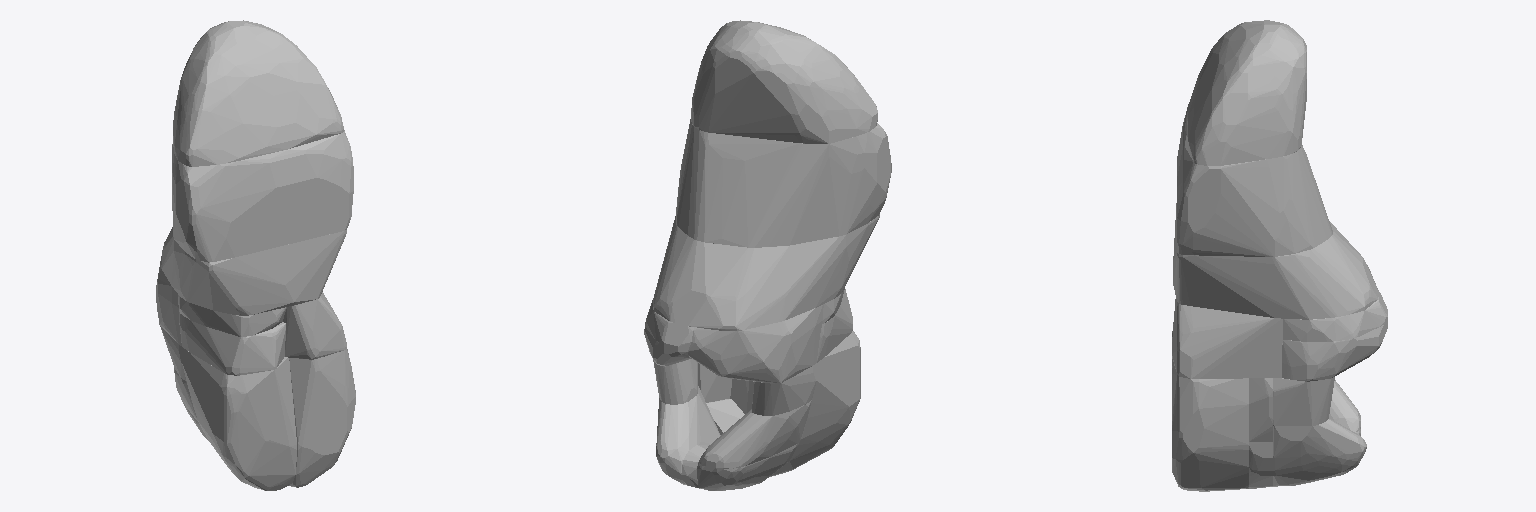
The robot description file, URDF, robot "root":
<robot name="root">
  <link name="link_coacd_convex_piece_0">
    <inertial>
      <origin xyz="0 0 0" rpy="0 0 0"/>
      <inertia ixx="1.07E-02" ixy="6.03E-04" ixz="-3.30E-04" iyy="4.68E-03" iyz="-3.82E-03" izz="1.11E-02"/>
    </inertial>
    <visual>
      <origin xyz="0 0 0" rpy="0 0 0"/>
      <geometry>
        <mesh filename="coacd_convex_piece_0.obj" scale="1.0000E+00 1.0000E+00 1.0000E+00"/>
      </geometry>
      <material name="">
        <color rgba="7.50E-01 7.50E-01 7.50E-01 1"/>
      </material>
    </visual>
    <collision>
      <origin xyz="0 0 0" rpy="0 0 0"/>
      <geometry>
        <mesh filename="coacd_convex_piece_0.obj" scale="1.0000E+00 1.0000E+00 1.0000E+00"/>
      </geometry>
    </collision>
  </link>
  <link name="link_coacd_convex_piece_1">
    <inertial>
      <origin xyz="0 0 0" rpy="0 0 0"/>
      <inertia ixx="2.05E-02" ixy="5.72E-04" ixz="-1.68E-04" iyy="1.41E-03" iyz="-3.26E-03" izz="2.10E-02"/>
    </inertial>
    <visual>
      <origin xyz="0 0 0" rpy="0 0 0"/>
      <geometry>
        <mesh filename="coacd_convex_piece_1.obj" scale="1.0000E+00 1.0000E+00 1.0000E+00"/>
      </geometry>
      <material name="">
        <color rgba="7.50E-01 7.50E-01 7.50E-01 1"/>
      </material>
    </visual>
    <collision>
      <origin xyz="0 0 0" rpy="0 0 0"/>
      <geometry>
        <mesh filename="coacd_convex_piece_1.obj" scale="1.0000E+00 1.0000E+00 1.0000E+00"/>
      </geometry>
    </collision>
  </link>
  <joint name="link_coacd_convex_piece_1_joint" type="fixed">
    <origin xyz="0 0 0" rpy="0 0 0"/>
    <parent link="link_coacd_convex_piece_0"/>
    <child link="link_coacd_convex_piece_1"/>
  </joint>
  <link name="link_coacd_convex_piece_2">
    <inertial>
      <origin xyz="0 0 0" rpy="0 0 0"/>
      <inertia ixx="1.47E-02" ixy="9.64E-04" ixz="-5.59E-04" iyy="1.77E-03" iyz="4.55E-03" izz="1.35E-02"/>
    </inertial>
    <visual>
      <origin xyz="0 0 0" rpy="0 0 0"/>
      <geometry>
        <mesh filename="coacd_convex_piece_2.obj" scale="1.0000E+00 1.0000E+00 1.0000E+00"/>
      </geometry>
      <material name="">
        <color rgba="7.50E-01 7.50E-01 7.50E-01 1"/>
      </material>
    </visual>
    <collision>
      <origin xyz="0 0 0" rpy="0 0 0"/>
      <geometry>
        <mesh filename="coacd_convex_piece_2.obj" scale="1.0000E+00 1.0000E+00 1.0000E+00"/>
      </geometry>
    </collision>
  </link>
  <joint name="link_coacd_convex_piece_2_joint" type="fixed">
    <origin xyz="0 0 0" rpy="0 0 0"/>
    <parent link="link_coacd_convex_piece_1"/>
    <child link="link_coacd_convex_piece_2"/>
  </joint>
  <link name="link_coacd_convex_piece_3">
    <inertial>
      <origin xyz="0 0 0" rpy="0 0 0"/>
      <inertia ixx="1.90E-03" ixy="-7.52E-06" ixz="-4.38E-04" iyy="3.18E-03" iyz="-1.79E-04" izz="1.97E-03"/>
    </inertial>
    <visual>
      <origin xyz="0 0 0" rpy="0 0 0"/>
      <geometry>
        <mesh filename="coacd_convex_piece_3.obj" scale="1.0000E+00 1.0000E+00 1.0000E+00"/>
      </geometry>
      <material name="">
        <color rgba="7.50E-01 7.50E-01 7.50E-01 1"/>
      </material>
    </visual>
    <collision>
      <origin xyz="0 0 0" rpy="0 0 0"/>
      <geometry>
        <mesh filename="coacd_convex_piece_3.obj" scale="1.0000E+00 1.0000E+00 1.0000E+00"/>
      </geometry>
    </collision>
  </link>
  <joint name="link_coacd_convex_piece_3_joint" type="fixed">
    <origin xyz="0 0 0" rpy="0 0 0"/>
    <parent link="link_coacd_convex_piece_2"/>
    <child link="link_coacd_convex_piece_3"/>
  </joint>
  <link name="link_coacd_convex_piece_4">
    <inertial>
      <origin xyz="0 0 0" rpy="0 0 0"/>
      <inertia ixx="6.27E-04" ixy="-3.93E-04" ixz="-8.22E-05" iyy="2.31E-04" iyz="-1.11E-04" izz="8.83E-04"/>
    </inertial>
    <visual>
      <origin xyz="0 0 0" rpy="0 0 0"/>
      <geometry>
        <mesh filename="coacd_convex_piece_4.obj" scale="1.0000E+00 1.0000E+00 1.0000E+00"/>
      </geometry>
      <material name="">
        <color rgba="7.50E-01 7.50E-01 7.50E-01 1"/>
      </material>
    </visual>
    <collision>
      <origin xyz="0 0 0" rpy="0 0 0"/>
      <geometry>
        <mesh filename="coacd_convex_piece_4.obj" scale="1.0000E+00 1.0000E+00 1.0000E+00"/>
      </geometry>
    </collision>
  </link>
  <joint name="link_coacd_convex_piece_4_joint" type="fixed">
    <origin xyz="0 0 0" rpy="0 0 0"/>
    <parent link="link_coacd_convex_piece_3"/>
    <child link="link_coacd_convex_piece_4"/>
  </joint>
  <link name="link_coacd_convex_piece_5">
    <inertial>
      <origin xyz="0 0 0" rpy="0 0 0"/>
      <inertia ixx="1.09E-02" ixy="-2.97E-03" ixz="1.14E-03" iyy="2.45E-03" iyz="3.74E-03" izz="1.06E-02"/>
    </inertial>
    <visual>
      <origin xyz="0 0 0" rpy="0 0 0"/>
      <geometry>
        <mesh filename="coacd_convex_piece_5.obj" scale="1.0000E+00 1.0000E+00 1.0000E+00"/>
      </geometry>
      <material name="">
        <color rgba="7.50E-01 7.50E-01 7.50E-01 1"/>
      </material>
    </visual>
    <collision>
      <origin xyz="0 0 0" rpy="0 0 0"/>
      <geometry>
        <mesh filename="coacd_convex_piece_5.obj" scale="1.0000E+00 1.0000E+00 1.0000E+00"/>
      </geometry>
    </collision>
  </link>
  <joint name="link_coacd_convex_piece_5_joint" type="fixed">
    <origin xyz="0 0 0" rpy="0 0 0"/>
    <parent link="link_coacd_convex_piece_4"/>
    <child link="link_coacd_convex_piece_5"/>
  </joint>
  <link name="link_coacd_convex_piece_6">
    <inertial>
      <origin xyz="0 0 0" rpy="0 0 0"/>
      <inertia ixx="4.94E-04" ixy="1.60E-04" ixz="1.00E-05" iyy="3.56E-05" iyz="-7.98E-05" izz="5.58E-04"/>
    </inertial>
    <visual>
      <origin xyz="0 0 0" rpy="0 0 0"/>
      <geometry>
        <mesh filename="coacd_convex_piece_6.obj" scale="1.0000E+00 1.0000E+00 1.0000E+00"/>
      </geometry>
      <material name="">
        <color rgba="7.50E-01 7.50E-01 7.50E-01 1"/>
      </material>
    </visual>
    <collision>
      <origin xyz="0 0 0" rpy="0 0 0"/>
      <geometry>
        <mesh filename="coacd_convex_piece_6.obj" scale="1.0000E+00 1.0000E+00 1.0000E+00"/>
      </geometry>
    </collision>
  </link>
  <joint name="link_coacd_convex_piece_6_joint" type="fixed">
    <origin xyz="0 0 0" rpy="0 0 0"/>
    <parent link="link_coacd_convex_piece_5"/>
    <child link="link_coacd_convex_piece_6"/>
  </joint>
  <link name="link_coacd_convex_piece_7">
    <inertial>
      <origin xyz="0 0 0" rpy="0 0 0"/>
      <inertia ixx="6.55E-04" ixy="-3.89E-04" ixz="-2.75E-04" iyy="5.30E-04" iyz="-3.15E-04" izz="8.05E-04"/>
    </inertial>
    <visual>
      <origin xyz="0 0 0" rpy="0 0 0"/>
      <geometry>
        <mesh filename="coacd_convex_piece_7.obj" scale="1.0000E+00 1.0000E+00 1.0000E+00"/>
      </geometry>
      <material name="">
        <color rgba="7.50E-01 7.50E-01 7.50E-01 1"/>
      </material>
    </visual>
    <collision>
      <origin xyz="0 0 0" rpy="0 0 0"/>
      <geometry>
        <mesh filename="coacd_convex_piece_7.obj" scale="1.0000E+00 1.0000E+00 1.0000E+00"/>
      </geometry>
    </collision>
  </link>
  <joint name="link_coacd_convex_piece_7_joint" type="fixed">
    <origin xyz="0 0 0" rpy="0 0 0"/>
    <parent link="link_coacd_convex_piece_6"/>
    <child link="link_coacd_convex_piece_7"/>
  </joint>
  <link name="link_coacd_convex_piece_8">
    <inertial>
      <origin xyz="0 0 0" rpy="0 0 0"/>
      <inertia ixx="1.54E-03" ixy="-7.28E-04" ixz="4.74E-04" iyy="1.15E-03" iyz="7.42E-04" izz="1.61E-03"/>
    </inertial>
    <visual>
      <origin xyz="0 0 0" rpy="0 0 0"/>
      <geometry>
        <mesh filename="coacd_convex_piece_8.obj" scale="1.0000E+00 1.0000E+00 1.0000E+00"/>
      </geometry>
      <material name="">
        <color rgba="7.50E-01 7.50E-01 7.50E-01 1"/>
      </material>
    </visual>
    <collision>
      <origin xyz="0 0 0" rpy="0 0 0"/>
      <geometry>
        <mesh filename="coacd_convex_piece_8.obj" scale="1.0000E+00 1.0000E+00 1.0000E+00"/>
      </geometry>
    </collision>
  </link>
  <joint name="link_coacd_convex_piece_8_joint" type="fixed">
    <origin xyz="0 0 0" rpy="0 0 0"/>
    <parent link="link_coacd_convex_piece_7"/>
    <child link="link_coacd_convex_piece_8"/>
  </joint>
  <link name="link_coacd_convex_piece_9">
    <inertial>
      <origin xyz="0 0 0" rpy="0 0 0"/>
      <inertia ixx="8.80E-04" ixy="2.59E-04" ixz="5.31E-05" iyy="3.75E-04" iyz="-4.01E-04" izz="7.94E-04"/>
    </inertial>
    <visual>
      <origin xyz="0 0 0" rpy="0 0 0"/>
      <geometry>
        <mesh filename="coacd_convex_piece_9.obj" scale="1.0000E+00 1.0000E+00 1.0000E+00"/>
      </geometry>
      <material name="">
        <color rgba="7.50E-01 7.50E-01 7.50E-01 1"/>
      </material>
    </visual>
    <collision>
      <origin xyz="0 0 0" rpy="0 0 0"/>
      <geometry>
        <mesh filename="coacd_convex_piece_9.obj" scale="1.0000E+00 1.0000E+00 1.0000E+00"/>
      </geometry>
    </collision>
  </link>
  <joint name="link_coacd_convex_piece_9_joint" type="fixed">
    <origin xyz="0 0 0" rpy="0 0 0"/>
    <parent link="link_coacd_convex_piece_8"/>
    <child link="link_coacd_convex_piece_9"/>
  </joint>
  <link name="link_coacd_convex_piece_10">
    <inertial>
      <origin xyz="0 0 0" rpy="0 0 0"/>
      <inertia ixx="1.22E-03" ixy="2.27E-04" ixz="-1.99E-04" iyy="5.03E-04" iyz="6.02E-04" izz="9.39E-04"/>
    </inertial>
    <visual>
      <origin xyz="0 0 0" rpy="0 0 0"/>
      <geometry>
        <mesh filename="coacd_convex_piece_10.obj" scale="1.0000E+00 1.0000E+00 1.0000E+00"/>
      </geometry>
      <material name="">
        <color rgba="7.50E-01 7.50E-01 7.50E-01 1"/>
      </material>
    </visual>
    <collision>
      <origin xyz="0 0 0" rpy="0 0 0"/>
      <geometry>
        <mesh filename="coacd_convex_piece_10.obj" scale="1.0000E+00 1.0000E+00 1.0000E+00"/>
      </geometry>
    </collision>
  </link>
  <joint name="link_coacd_convex_piece_10_joint" type="fixed">
    <origin xyz="0 0 0" rpy="0 0 0"/>
    <parent link="link_coacd_convex_piece_9"/>
    <child link="link_coacd_convex_piece_10"/>
  </joint>
  <link name="link_coacd_convex_piece_11">
    <inertial>
      <origin xyz="0 0 0" rpy="0 0 0"/>
      <inertia ixx="3.92E-03" ixy="-1.22E-03" ixz="-2.33E-04" iyy="4.54E-04" iyz="-6.30E-04" izz="4.28E-03"/>
    </inertial>
    <visual>
      <origin xyz="0 0 0" rpy="0 0 0"/>
      <geometry>
        <mesh filename="coacd_convex_piece_11.obj" scale="1.0000E+00 1.0000E+00 1.0000E+00"/>
      </geometry>
      <material name="">
        <color rgba="7.50E-01 7.50E-01 7.50E-01 1"/>
      </material>
    </visual>
    <collision>
      <origin xyz="0 0 0" rpy="0 0 0"/>
      <geometry>
        <mesh filename="coacd_convex_piece_11.obj" scale="1.0000E+00 1.0000E+00 1.0000E+00"/>
      </geometry>
    </collision>
  </link>
  <joint name="link_coacd_convex_piece_11_joint" type="fixed">
    <origin xyz="0 0 0" rpy="0 0 0"/>
    <parent link="link_coacd_convex_piece_10"/>
    <child link="link_coacd_convex_piece_11"/>
  </joint>
  <link name="link_coacd_convex_piece_12">
    <inertial>
      <origin xyz="0 0 0" rpy="0 0 0"/>
      <inertia ixx="1.13E-03" ixy="-1.62E-04" ixz="-3.61E-05" iyy="4.13E-05" iyz="-1.83E-04" izz="1.13E-03"/>
    </inertial>
    <visual>
      <origin xyz="0 0 0" rpy="0 0 0"/>
      <geometry>
        <mesh filename="coacd_convex_piece_12.obj" scale="1.0000E+00 1.0000E+00 1.0000E+00"/>
      </geometry>
      <material name="">
        <color rgba="7.50E-01 7.50E-01 7.50E-01 1"/>
      </material>
    </visual>
    <collision>
      <origin xyz="0 0 0" rpy="0 0 0"/>
      <geometry>
        <mesh filename="coacd_convex_piece_12.obj" scale="1.0000E+00 1.0000E+00 1.0000E+00"/>
      </geometry>
    </collision>
  </link>
  <joint name="link_coacd_convex_piece_12_joint" type="fixed">
    <origin xyz="0 0 0" rpy="0 0 0"/>
    <parent link="link_coacd_convex_piece_11"/>
    <child link="link_coacd_convex_piece_12"/>
  </joint>
  <link name="link_coacd_convex_piece_13">
    <inertial>
      <origin xyz="0 0 0" rpy="0 0 0"/>
      <inertia ixx="1.60E-03" ixy="-4.08E-04" ixz="2.49E-05" iyy="8.96E-05" iyz="1.49E-04" izz="1.74E-03"/>
    </inertial>
    <visual>
      <origin xyz="0 0 0" rpy="0 0 0"/>
      <geometry>
        <mesh filename="coacd_convex_piece_13.obj" scale="1.0000E+00 1.0000E+00 1.0000E+00"/>
      </geometry>
      <material name="">
        <color rgba="7.50E-01 7.50E-01 7.50E-01 1"/>
      </material>
    </visual>
    <collision>
      <origin xyz="0 0 0" rpy="0 0 0"/>
      <geometry>
        <mesh filename="coacd_convex_piece_13.obj" scale="1.0000E+00 1.0000E+00 1.0000E+00"/>
      </geometry>
    </collision>
  </link>
  <joint name="link_coacd_convex_piece_13_joint" type="fixed">
    <origin xyz="0 0 0" rpy="0 0 0"/>
    <parent link="link_coacd_convex_piece_12"/>
    <child link="link_coacd_convex_piece_13"/>
  </joint>
  <link name="link_coacd_convex_piece_14">
    <inertial>
      <origin xyz="0 0 0" rpy="0 0 0"/>
      <inertia ixx="5.12E-04" ixy="-2.72E-04" ixz="2.91E-05" iyy="1.27E-04" iyz="7.47E-05" izz="6.71E-04"/>
    </inertial>
    <visual>
      <origin xyz="0 0 0" rpy="0 0 0"/>
      <geometry>
        <mesh filename="coacd_convex_piece_14.obj" scale="1.0000E+00 1.0000E+00 1.0000E+00"/>
      </geometry>
      <material name="">
        <color rgba="7.50E-01 7.50E-01 7.50E-01 1"/>
      </material>
    </visual>
    <collision>
      <origin xyz="0 0 0" rpy="0 0 0"/>
      <geometry>
        <mesh filename="coacd_convex_piece_14.obj" scale="1.0000E+00 1.0000E+00 1.0000E+00"/>
      </geometry>
    </collision>
  </link>
  <joint name="link_coacd_convex_piece_14_joint" type="fixed">
    <origin xyz="0 0 0" rpy="0 0 0"/>
    <parent link="link_coacd_convex_piece_13"/>
    <child link="link_coacd_convex_piece_14"/>
  </joint>
  <link name="link_coacd_convex_piece_15">
    <inertial>
      <origin xyz="0 0 0" rpy="0 0 0"/>
      <inertia ixx="3.18E-03" ixy="-2.07E-05" ixz="-3.36E-05" iyy="2.16E-05" iyz="-3.86E-04" izz="3.17E-03"/>
    </inertial>
    <visual>
      <origin xyz="0 0 0" rpy="0 0 0"/>
      <geometry>
        <mesh filename="coacd_convex_piece_15.obj" scale="1.0000E+00 1.0000E+00 1.0000E+00"/>
      </geometry>
      <material name="">
        <color rgba="7.50E-01 7.50E-01 7.50E-01 1"/>
      </material>
    </visual>
    <collision>
      <origin xyz="0 0 0" rpy="0 0 0"/>
      <geometry>
        <mesh filename="coacd_convex_piece_15.obj" scale="1.0000E+00 1.0000E+00 1.0000E+00"/>
      </geometry>
    </collision>
  </link>
  <joint name="link_coacd_convex_piece_15_joint" type="fixed">
    <origin xyz="0 0 0" rpy="0 0 0"/>
    <parent link="link_coacd_convex_piece_14"/>
    <child link="link_coacd_convex_piece_15"/>
  </joint>
  <link name="link_coacd_convex_piece_16">
    <inertial>
      <origin xyz="0 0 0" rpy="0 0 0"/>
      <inertia ixx="1.99E-03" ixy="2.07E-04" ixz="-3.76E-06" iyy="5.35E-05" iyz="-3.43E-04" izz="2.01E-03"/>
    </inertial>
    <visual>
      <origin xyz="0 0 0" rpy="0 0 0"/>
      <geometry>
        <mesh filename="coacd_convex_piece_16.obj" scale="1.0000E+00 1.0000E+00 1.0000E+00"/>
      </geometry>
      <material name="">
        <color rgba="7.50E-01 7.50E-01 7.50E-01 1"/>
      </material>
    </visual>
    <collision>
      <origin xyz="0 0 0" rpy="0 0 0"/>
      <geometry>
        <mesh filename="coacd_convex_piece_16.obj" scale="1.0000E+00 1.0000E+00 1.0000E+00"/>
      </geometry>
    </collision>
  </link>
  <joint name="link_coacd_convex_piece_16_joint" type="fixed">
    <origin xyz="0 0 0" rpy="0 0 0"/>
    <parent link="link_coacd_convex_piece_15"/>
    <child link="link_coacd_convex_piece_16"/>
  </joint>
  <link name="link_coacd_convex_piece_17">
    <inertial>
      <origin xyz="0 0 0" rpy="0 0 0"/>
      <inertia ixx="3.04E-04" ixy="-1.51E-04" ixz="-1.90E-04" iyy="3.63E-04" iyz="-1.63E-04" izz="3.25E-04"/>
    </inertial>
    <visual>
      <origin xyz="0 0 0" rpy="0 0 0"/>
      <geometry>
        <mesh filename="coacd_convex_piece_17.obj" scale="1.0000E+00 1.0000E+00 1.0000E+00"/>
      </geometry>
      <material name="">
        <color rgba="7.50E-01 7.50E-01 7.50E-01 1"/>
      </material>
    </visual>
    <collision>
      <origin xyz="0 0 0" rpy="0 0 0"/>
      <geometry>
        <mesh filename="coacd_convex_piece_17.obj" scale="1.0000E+00 1.0000E+00 1.0000E+00"/>
      </geometry>
    </collision>
  </link>
  <joint name="link_coacd_convex_piece_17_joint" type="fixed">
    <origin xyz="0 0 0" rpy="0 0 0"/>
    <parent link="link_coacd_convex_piece_16"/>
    <child link="link_coacd_convex_piece_17"/>
  </joint>
  <link name="link_coacd_convex_piece_18">
    <inertial>
      <origin xyz="0 0 0" rpy="0 0 0"/>
      <inertia ixx="3.47E-04" ixy="7.74E-05" ixz="-1.10E-04" iyy="2.61E-04" iyz="1.82E-04" izz="2.16E-04"/>
    </inertial>
    <visual>
      <origin xyz="0 0 0" rpy="0 0 0"/>
      <geometry>
        <mesh filename="coacd_convex_piece_18.obj" scale="1.0000E+00 1.0000E+00 1.0000E+00"/>
      </geometry>
      <material name="">
        <color rgba="7.50E-01 7.50E-01 7.50E-01 1"/>
      </material>
    </visual>
    <collision>
      <origin xyz="0 0 0" rpy="0 0 0"/>
      <geometry>
        <mesh filename="coacd_convex_piece_18.obj" scale="1.0000E+00 1.0000E+00 1.0000E+00"/>
      </geometry>
    </collision>
  </link>
  <joint name="link_coacd_convex_piece_18_joint" type="fixed">
    <origin xyz="0 0 0" rpy="0 0 0"/>
    <parent link="link_coacd_convex_piece_17"/>
    <child link="link_coacd_convex_piece_18"/>
  </joint>
</robot>

--- Facts derived from the render (not from the file) ---
Views: 3 orthographic renders of the robot side by side, from view 1: azimuth 30°, elevation 25°; view 2: azimuth 150°, elevation 25°; view 3: azimuth 270°, elevation 25°.
Robot: root — 19 links, 18 joints (18 fixed); root link link_coacd_convex_piece_0; default pose: every joint at zero.
Visible links, largest first — view 1: link_coacd_convex_piece_1, link_coacd_convex_piece_0, link_coacd_convex_piece_2, link_coacd_convex_piece_3, link_coacd_convex_piece_5, link_coacd_convex_piece_10, link_coacd_convex_piece_8, link_coacd_convex_piece_18, link_coacd_convex_piece_9; view 2: link_coacd_convex_piece_0, link_coacd_convex_piece_1, link_coacd_convex_piece_3, link_coacd_convex_piece_9, link_coacd_convex_piece_2, link_coacd_convex_piece_16, link_coacd_convex_piece_11, link_coacd_convex_piece_6, link_coacd_convex_piece_15, link_coacd_convex_piece_4, link_coacd_convex_piece_17, link_coacd_convex_piece_10 (+4 smaller); view 3: link_coacd_convex_piece_1, link_coacd_convex_piece_0, link_coacd_convex_piece_3, link_coacd_convex_piece_5, link_coacd_convex_piece_8, link_coacd_convex_piece_11, link_coacd_convex_piece_7, link_coacd_convex_piece_4, link_coacd_convex_piece_17, link_coacd_convex_piece_14, link_coacd_convex_piece_13, link_coacd_convex_piece_16.
Boxes of the visible links, x1,y1,x2,y2 form: link_coacd_convex_piece_1: (173,20,343,166); link_coacd_convex_piece_0: (172,130,353,262); link_coacd_convex_piece_2: (182,347,296,490); link_coacd_convex_piece_3: (161,227,346,315); link_coacd_convex_piece_5: (289,349,355,487); link_coacd_convex_piece_10: (179,312,285,375); link_coacd_convex_piece_8: (283,292,346,359); link_coacd_convex_piece_18: (178,295,286,336); link_coacd_convex_piece_9: (156,256,181,345); link_coacd_convex_piece_0: (676,119,891,247); link_coacd_convex_piece_1: (691,20,877,143); link_coacd_convex_piece_3: (653,214,879,330); link_coacd_convex_piece_9: (688,304,823,383); link_coacd_convex_piece_2: (747,331,860,476); link_coacd_convex_piece_16: (699,400,811,468); link_coacd_convex_piece_11: (656,386,720,484); link_coacd_convex_piece_6: (752,363,816,415); link_coacd_convex_piece_15: (697,443,798,490); link_coacd_convex_piece_4: (653,359,697,404); link_coacd_convex_piece_17: (645,300,693,350); link_coacd_convex_piece_10: (817,289,852,362); link_coacd_convex_piece_1: (1187,20,1306,165); link_coacd_convex_piece_0: (1177,104,1332,256); link_coacd_convex_piece_3: (1173,203,1378,319); link_coacd_convex_piece_5: (1172,362,1248,491); link_coacd_convex_piece_8: (1172,299,1282,378); link_coacd_convex_piece_11: (1273,418,1366,486); link_coacd_convex_piece_7: (1282,322,1387,381); link_coacd_convex_piece_4: (1273,377,1334,425); link_coacd_convex_piece_17: (1283,290,1387,341); link_coacd_convex_piece_14: (1249,378,1272,441); link_coacd_convex_piece_13: (1249,442,1272,488); link_coacd_convex_piece_16: (1329,380,1360,432).
Size in the robot's own frame: 0.7174 by 0.7971 by 1.83 metres.
19 mesh visuals loaded from 19 distinct referenced files (19 OBJ).
